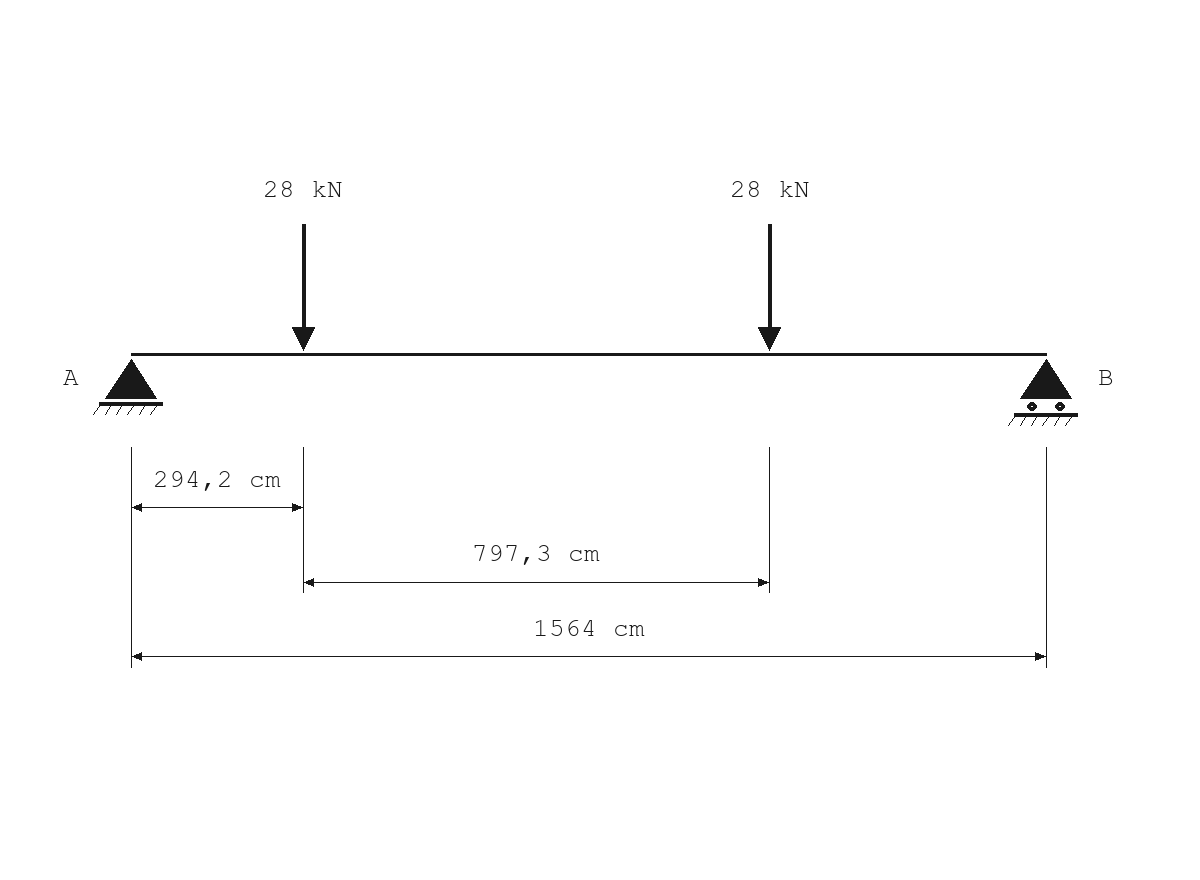pin_support: (93, 359, 163, 415)
point_load: (292, 224, 315, 351), (758, 224, 781, 351)
roller_support: (1008, 359, 1078, 426)
